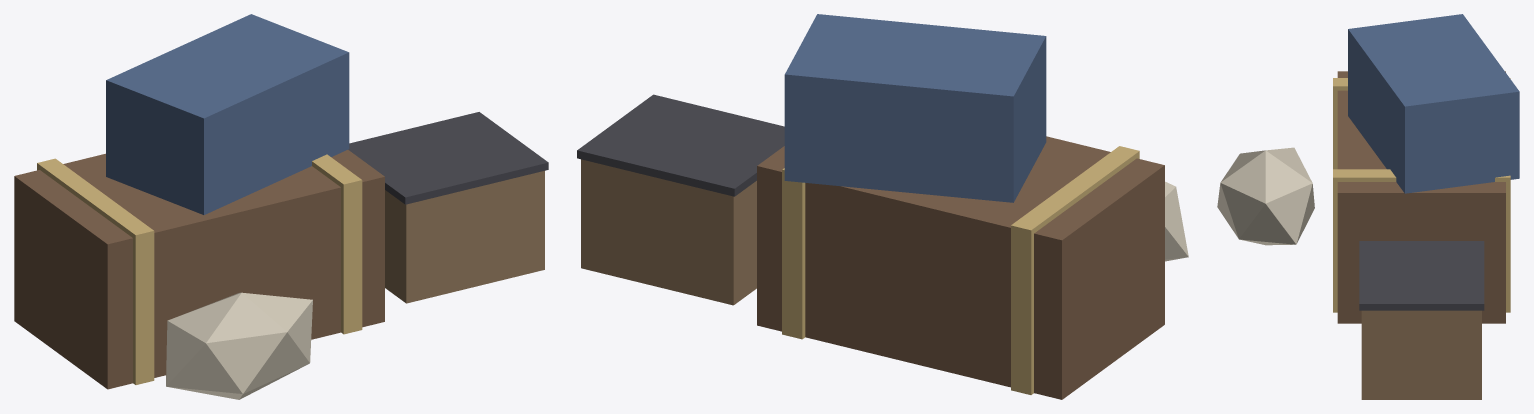
Rendered from luggage.glb.
3 renders of one model, left to right at view 1: azimuth 30°, elevation 25°; view 2: azimuth 150°, elevation 25°; view 3: azimuth 270°, elevation 25°, orthographic. The views are drawn at different scales.
Parts seen in each view (by area): view 1: luggage; view 2: luggage; view 3: luggage.
Boxes of the visible parts, x1,y1,x2,y2 form: luggage: (14,14,548,399); luggage: (577,14,1188,399); luggage: (1217,14,1519,399).
Bounding box in the file's own units: 1.96 × 1.01 × 1.26.
